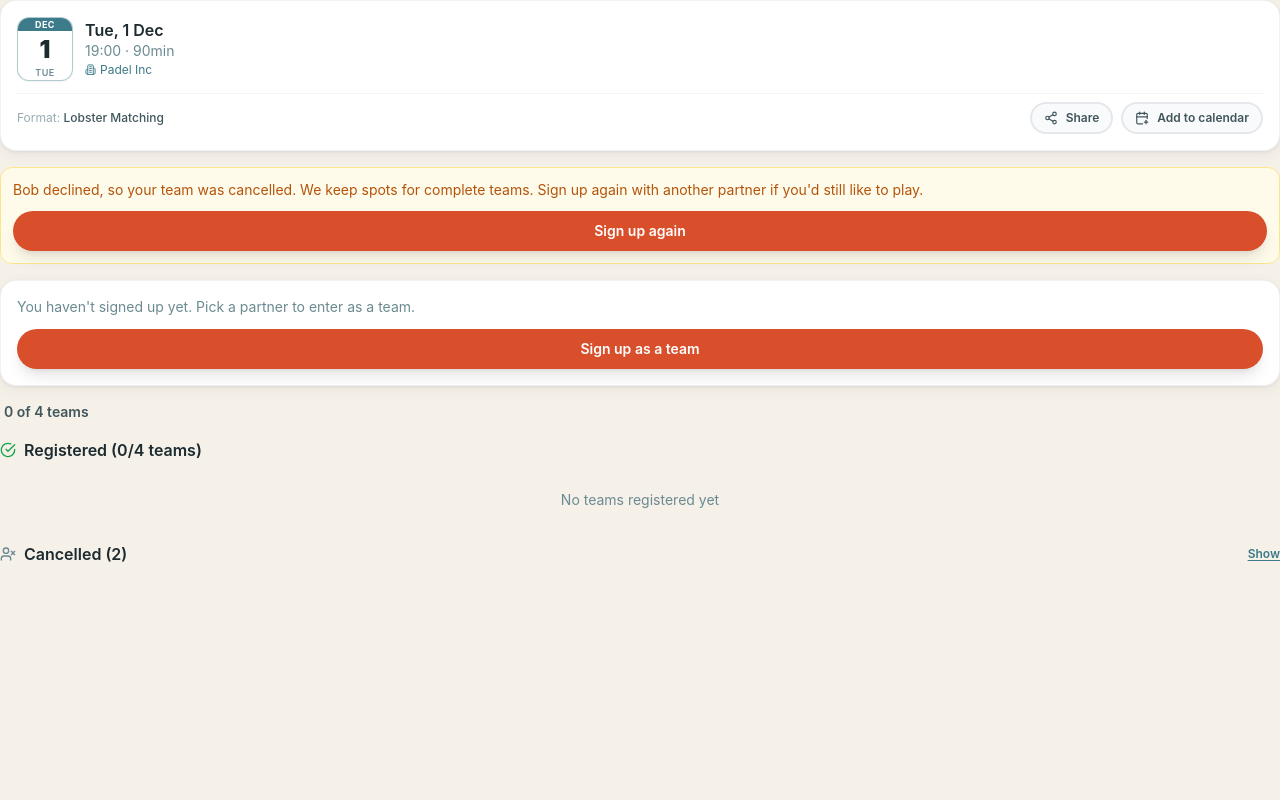
Test: ended team notice › tells the captain their partner declined and reopens the join card
expect the text "Bob declined, so your team was cancelled" is shown: met, box [13,181,923,198]
Click the button "Sign up again" at point(640, 231), box [13,211,1267,251]
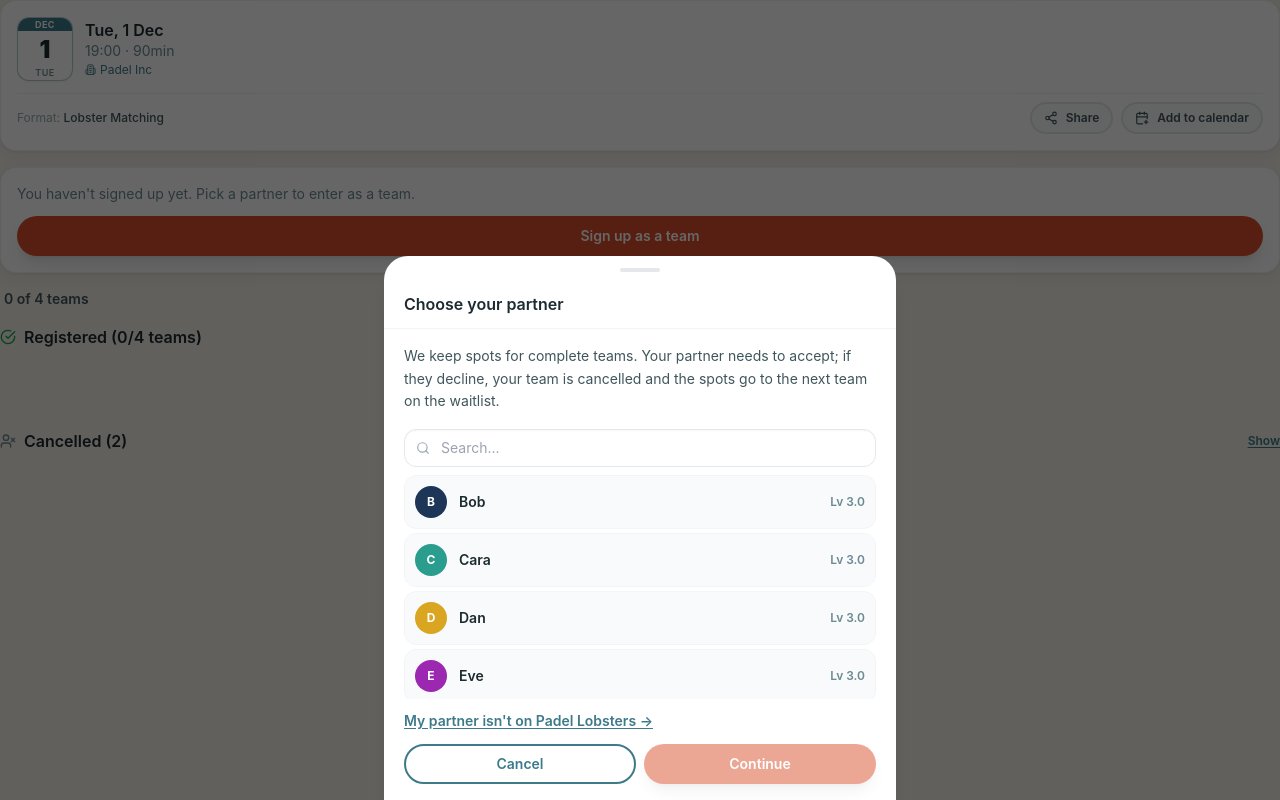
expect the heading "Choose your partner" is shown: met, box [404,292,564,316]
expect the text "Bob declined" is gone: met
